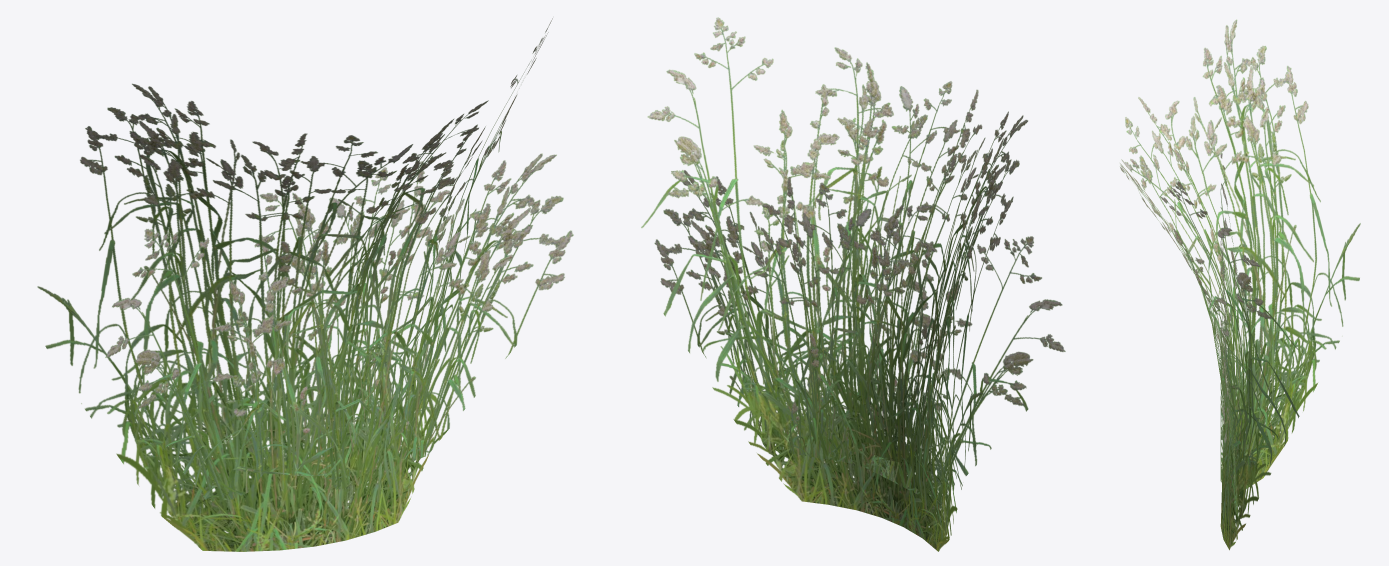
Rendered from trawa.glb.
3 renders of one model, left to right at view 1: azimuth 30°, elevation 25°; view 2: azimuth 150°, elevation 25°; view 3: azimuth 270°, elevation 25°, orthographic. The views are drawn at different scales.
Parts seen in each view (by area): view 1: trawa01_wip.001_NaturePlants0014_1_alphamasked_S.005; view 2: trawa01_wip.001_NaturePlants0014_1_alphamasked_S.005; view 3: trawa01_wip.001_NaturePlants0014_1_alphamasked_S.005.
Boxes of the visible parts, box(x1,y1,x2,y2) form: trawa01_wip.001_NaturePlants0014_1_alphamasked_S.005: box(37, 18, 573, 551); trawa01_wip.001_NaturePlants0014_1_alphamasked_S.005: box(641, 17, 1065, 551); trawa01_wip.001_NaturePlants0014_1_alphamasked_S.005: box(1120, 19, 1360, 550).
Size of the model in its own units: 1.1 by 1.04 by 0.5858.
1 material, 1 textured.
